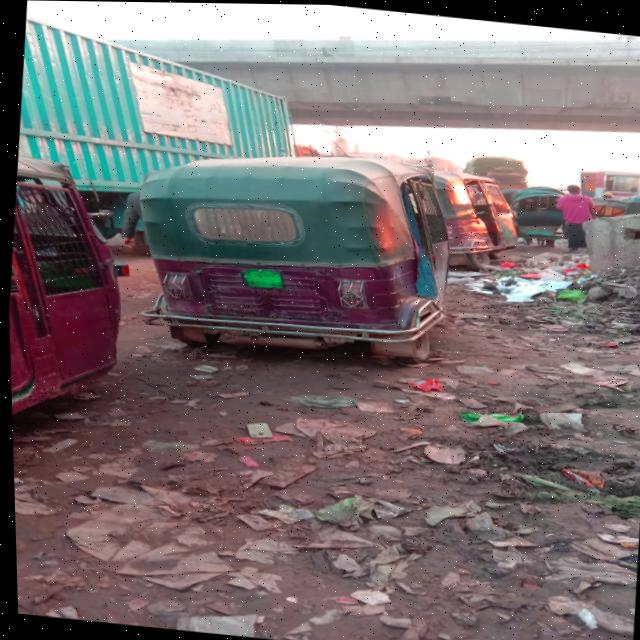cng: (127, 103, 467, 405)
